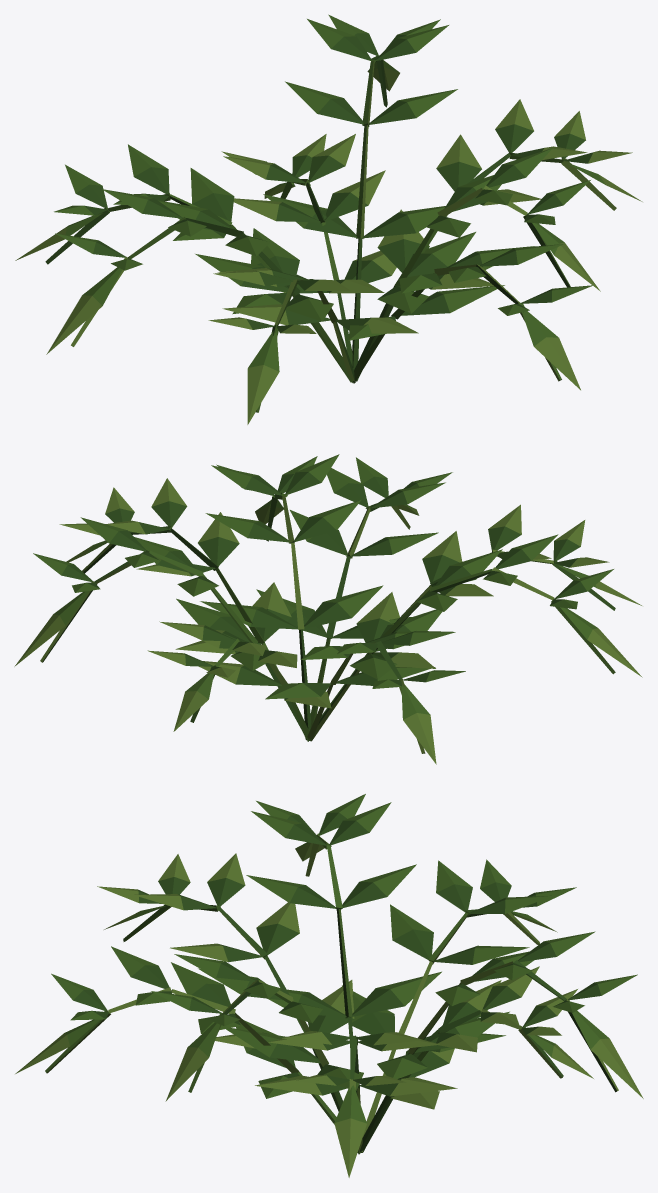
File: Fern_Patch.obj
The picture shows the model from 3 angles, top to bottom: view 1: azimuth 30°, elevation 25°; view 2: azimuth 150°, elevation 25°; view 3: azimuth 270°, elevation 25°; orthographic projection. The views are drawn at different scales.
Parts seen in each view (by area): view 1: Fern_Patch; view 2: Fern_Patch; view 3: Fern_Patch.
Part boxes in pixels (<box>): Fern_Patch: <box>15,14,642,424</box>; Fern_Patch: <box>14,454,642,764</box>; Fern_Patch: <box>15,794,643,1177</box>.
Size of the model in its own units: 1.52 by 0.6044 by 1.34.
1 material, 1 textured.
